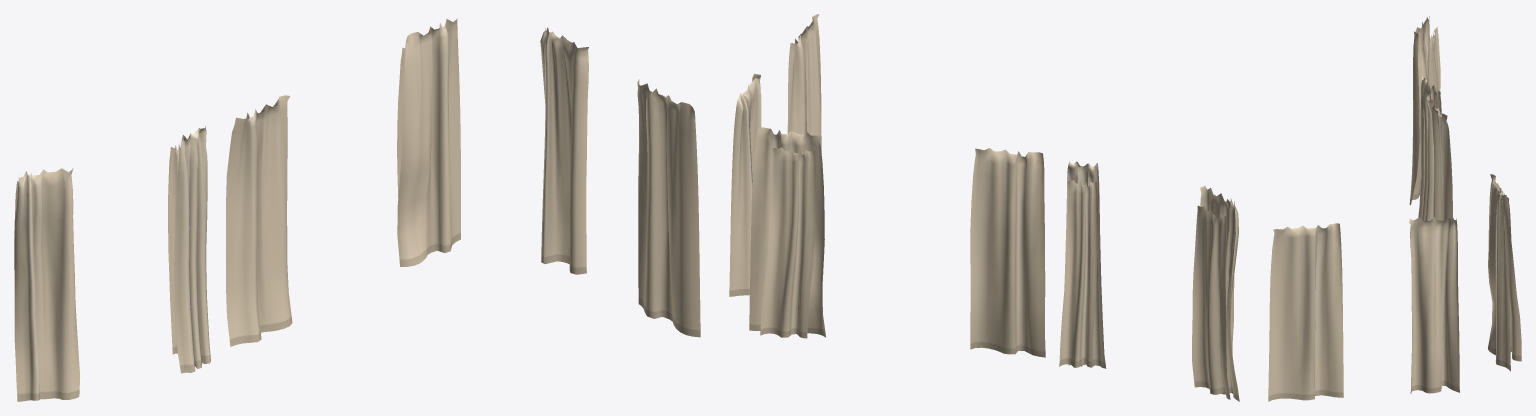
File: Curtain.fbx
The picture shows the model from 3 angles, left to right: view 1: azimuth 30°, elevation 25°; view 2: azimuth 150°, elevation 25°; view 3: azimuth 270°, elevation 25°; orthographic projection. The views are drawn at different scales.
Parts seen in each view (by area): view 1: prop_Curtain03, prop_Curtain01, prop_Curtain06, prop_Curtain05, prop_Curtain04, prop_Curtain02, prop_Curtain03.002, prop_Curtain03.003; view 2: prop_Curtain03, prop_Curtain03.003, prop_Curtain05, prop_Curtain03.001, prop_Curtain03.002, prop_Curtain04, prop_Curtain06, prop_Curtain01, prop_Curtain02; view 3: prop_Curtain06, prop_Curtain04, prop_Curtain05, prop_Curtain03, prop_Curtain01, prop_Curtain02, prop_Curtain03.003, prop_Curtain03.001.
Part boxes in pixels (<box>): prop_Curtain03: <box>226,95,292,346</box>; prop_Curtain01: <box>14,168,80,401</box>; prop_Curtain06: <box>637,79,700,337</box>; prop_Curtain05: <box>397,18,460,266</box>; prop_Curtain04: <box>540,27,588,274</box>; prop_Curtain02: <box>174,126,210,373</box>; prop_Curtain03.002: <box>168,143,180,354</box>; prop_Curtain03.003: <box>397,47,405,196</box>; prop_Curtain03: <box>970,148,1045,357</box>; prop_Curtain03.003: <box>760,147,815,338</box>; prop_Curtain05: <box>749,127,825,337</box>; prop_Curtain03.001: <box>1192,205,1230,399</box>; prop_Curtain03.002: <box>1059,180,1097,367</box>; prop_Curtain04: <box>729,73,761,296</box>; prop_Curtain06: <box>787,14,821,152</box>; prop_Curtain01: <box>1200,186,1239,401</box>; prop_Curtain02: <box>1066,161,1106,368</box>; prop_Curtain06: <box>1268,223,1343,401</box>; prop_Curtain04: <box>1409,216,1459,393</box>; prop_Curtain05: <box>1488,174,1510,371</box>; prop_Curtain03: <box>1426,94,1452,220</box>; prop_Curtain01: <box>1409,16,1429,205</box>; prop_Curtain02: <box>1418,73,1433,220</box>; prop_Curtain03.003: <box>1501,188,1521,361</box>; prop_Curtain03.001: <box>1427,27,1440,99</box>.
Size of the model in its own units: 7.47 by 2.9 by 3.72.
